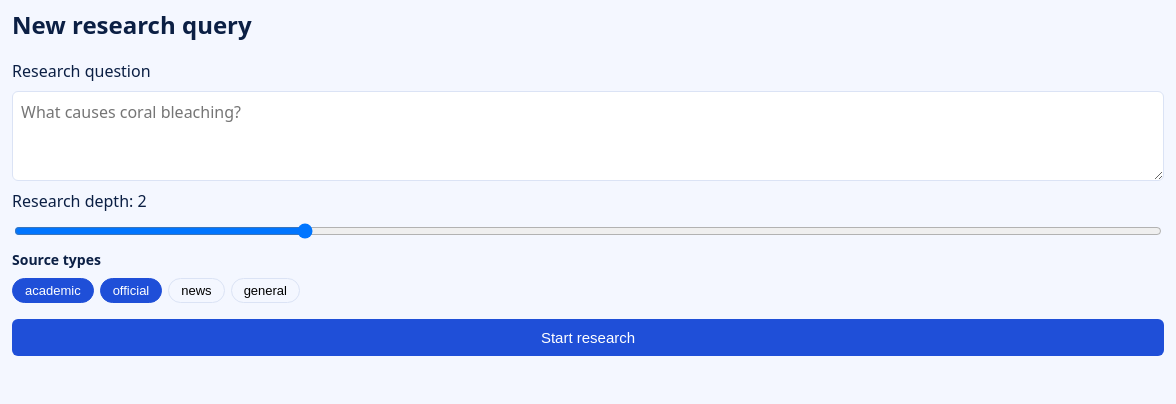
Test: QueryForm › blocks submission for a too-short question
In the text box labelled "Research question": (588, 136) [12, 91, 1164, 181], type "hi"
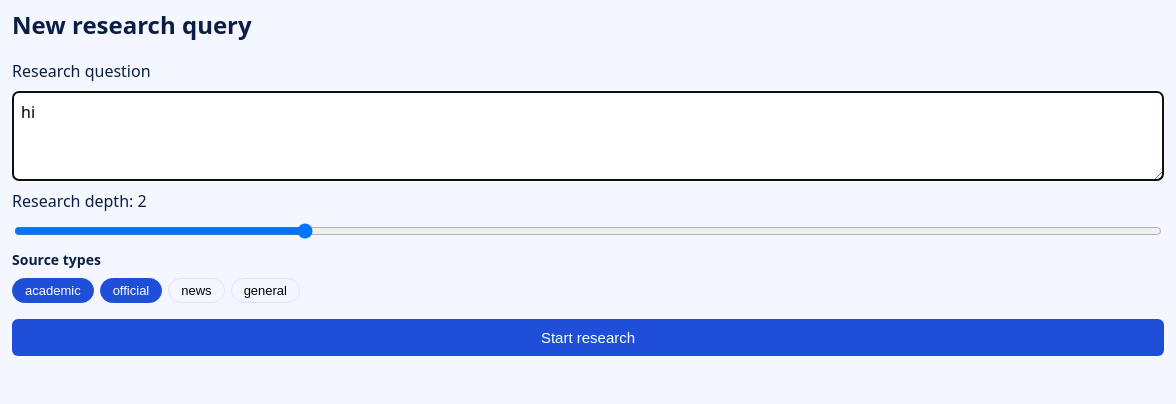
Click the button "Start research": click(588, 338) [12, 319, 1164, 356]
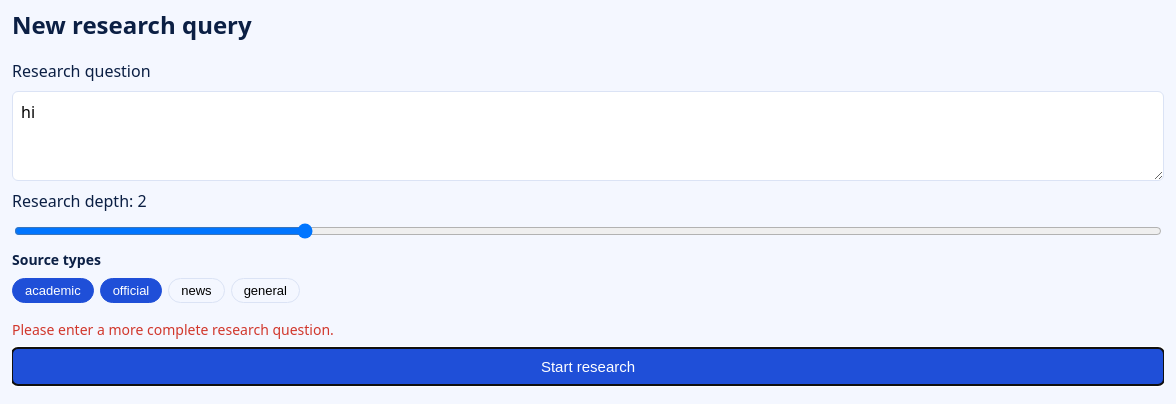
Check: the text "Please enter a more complete research question." is shown, box [12, 320, 334, 339]
